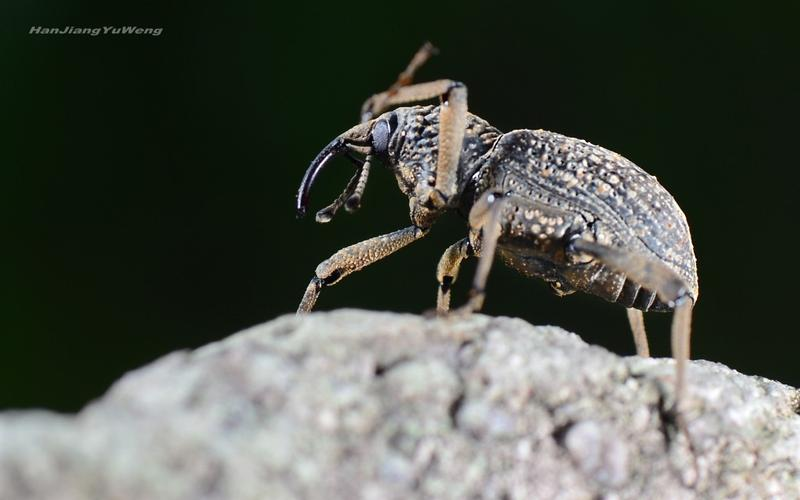Curculionidae: (294, 40, 700, 490)
